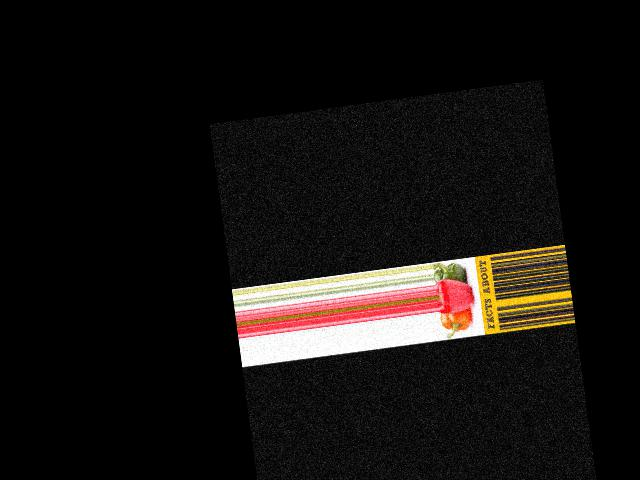bell_pepper: (433, 258, 471, 283)
